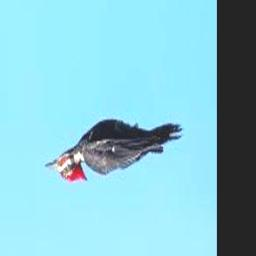Woodpecker: (46, 119, 184, 184)
